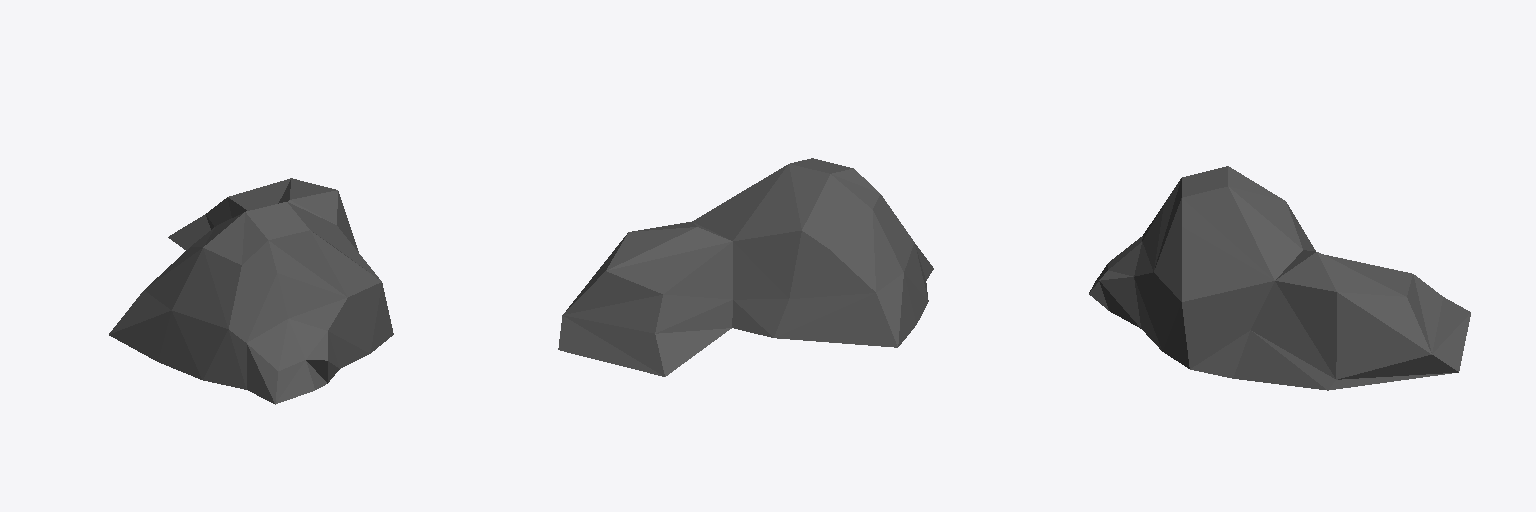
File: vegetation1.obj
3 views of the same model, side by side, from view 1: azimuth 30°, elevation 25°; view 2: azimuth 150°, elevation 25°; view 3: azimuth 270°, elevation 25° (orthographic).
Parts seen in each view (by area): view 1: vegetation2; view 2: vegetation2; view 3: vegetation2.
Part boxes in pixels (bbox=[...]): vegetation2: bbox=[109, 178, 393, 404]; vegetation2: bbox=[558, 158, 933, 376]; vegetation2: bbox=[1089, 166, 1470, 390].
Bounding box in the file's own units: 93.21 × 46.21 × 111.